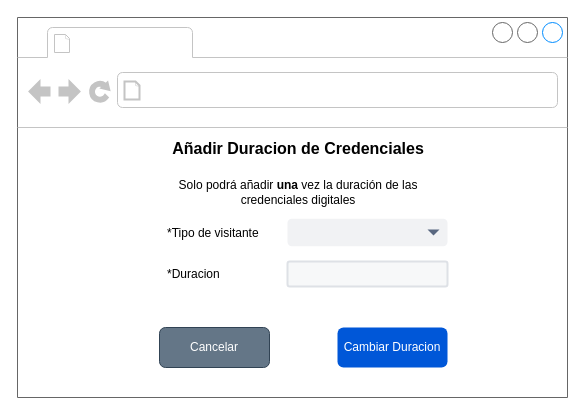
Some shapes in this 585 by 415 pixel diagram are drawn without their labels. Each missing label, with the centre of its shape:
"https://www.draw.io" belongs at point 272,90.
"Page 1" belongs at point 132,42.
